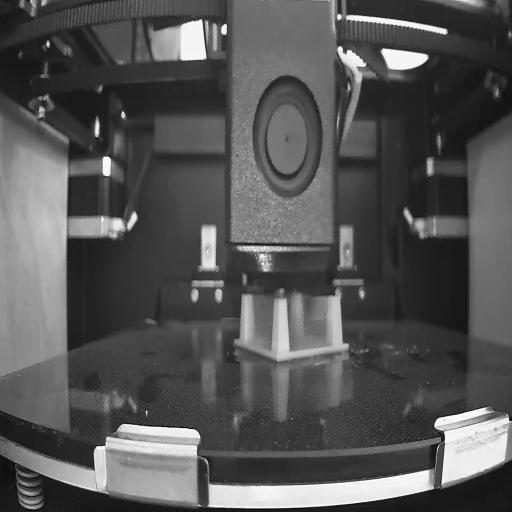stringing: (288, 293, 335, 355), (246, 293, 274, 353)
